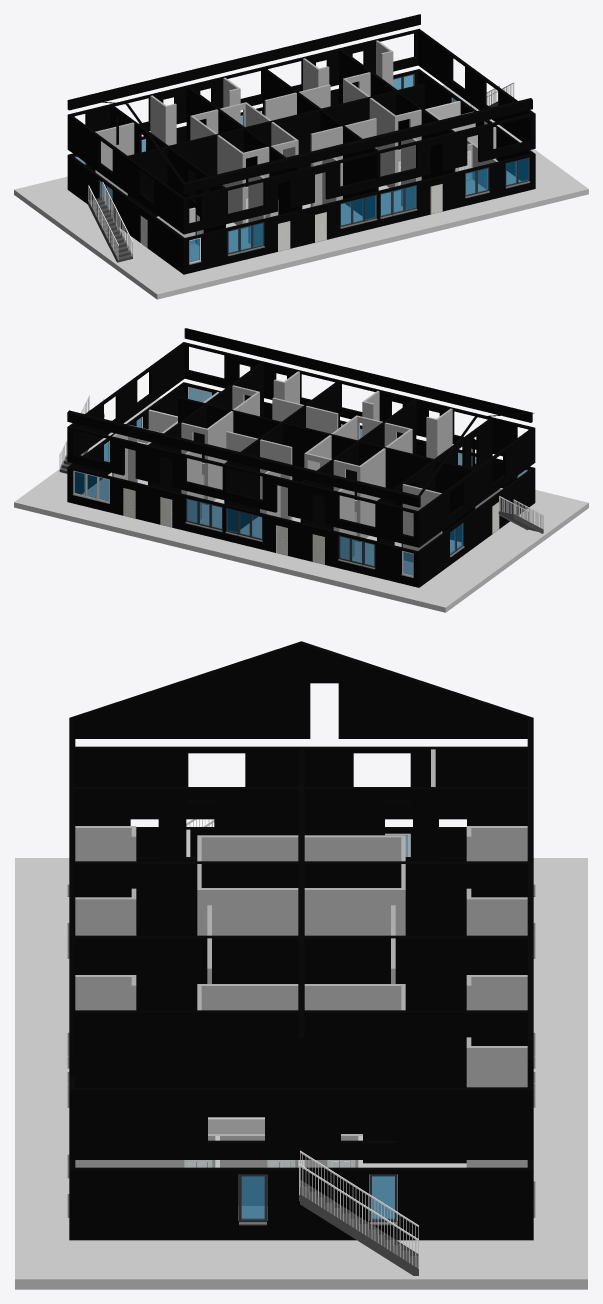
Rendered from Hus-med-rum.glb.
3 views of the same model, one above another, from view 1: azimuth 30°, elevation 25°; view 2: azimuth 150°, elevation 25°; view 3: azimuth 270°, elevation 25° (orthographic). The views are drawn at different scales.
Parts seen in each view (by area): view 1: empty_415, empty_2, empty_416, empty_418, empty_417, empty_7; view 2: empty_415, empty_2, empty_416, empty_418, empty_417, empty_8; view 3: empty_415, empty_2, empty_416, empty_417, empty_418, empty_28, empty_451, empty_5, empty_27, empty_450.
Part boxes in pixels (x1,y1,x2,y2): empty_415: [67, 14, 535, 274]; empty_2: [14, 84, 588, 299]; empty_416: [95, 40, 498, 246]; empty_418: [88, 82, 514, 260]; empty_417: [88, 97, 513, 262]; empty_7: [427, 101, 460, 119]; empty_415: [67, 328, 535, 587]; empty_2: [14, 398, 588, 612]; empty_416: [112, 371, 452, 562]; empty_418: [59, 395, 543, 529]; empty_417: [59, 410, 543, 533]; empty_8: [148, 409, 177, 432]; empty_415: [69, 641, 533, 1240]; empty_2: [15, 858, 587, 1289]; empty_416: [75, 749, 527, 1205]; empty_417: [299, 1180, 418, 1275]; empty_418: [186, 819, 418, 1268]; empty_28: [242, 1176, 264, 1218]; empty_451: [242, 1176, 264, 1218]; empty_5: [208, 1117, 264, 1133]; empty_27: [372, 1176, 394, 1218]; empty_450: [372, 1176, 394, 1218].
Bounding box in the file's own units: 32.26 × 9.51 × 18.54.
